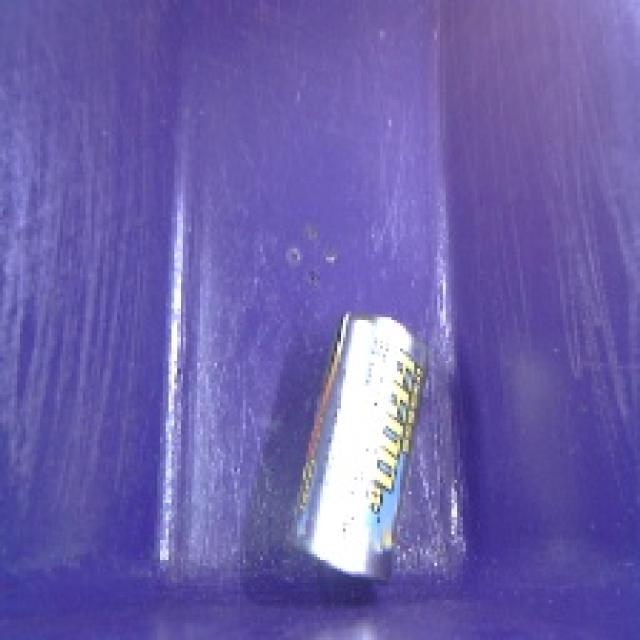battery: (284, 302, 434, 602)
